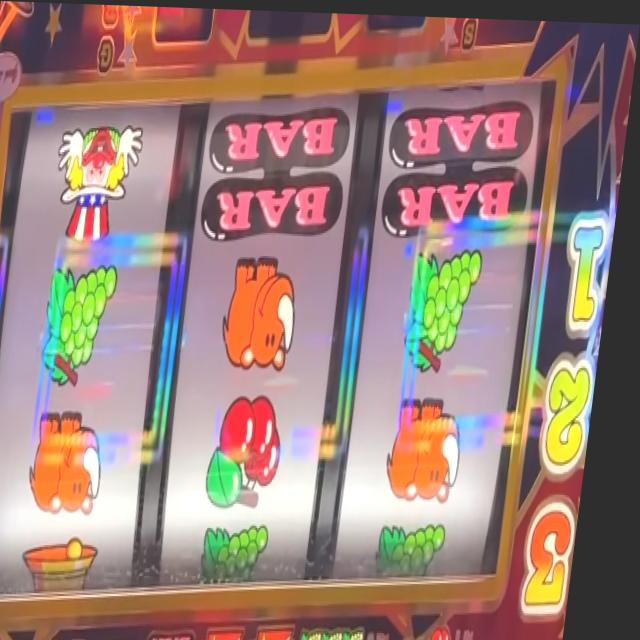bar: (198, 104, 358, 249), (381, 103, 539, 237), (161, 625, 212, 640)
bell: (32, 535, 114, 591)
cherry: (213, 392, 295, 510), (442, 618, 471, 640)
clown: (53, 119, 149, 244)
display: (0, 57, 577, 620)
elephant: (226, 252, 309, 372), (392, 391, 477, 502), (36, 410, 119, 517)
grape: (405, 242, 489, 372), (45, 264, 127, 385), (384, 515, 461, 583), (209, 524, 282, 582), (357, 623, 382, 640), (336, 624, 361, 640), (316, 624, 337, 640)
z: (268, 623, 311, 640), (218, 625, 260, 640)
